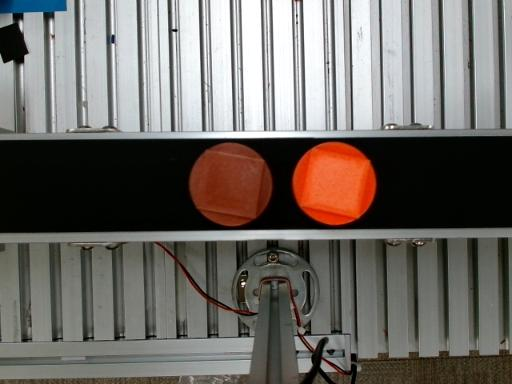Square: (301, 147, 370, 219), (198, 149, 264, 219)
